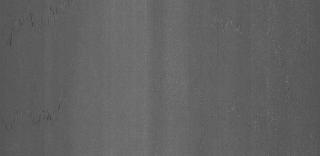silk spot: (7, 2, 73, 44), (209, 10, 299, 40), (14, 96, 80, 136)
